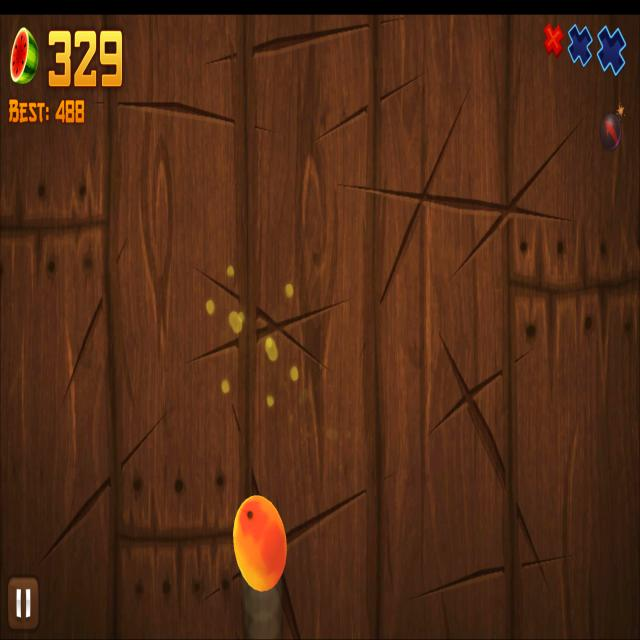fruit: (233, 495, 287, 591)
